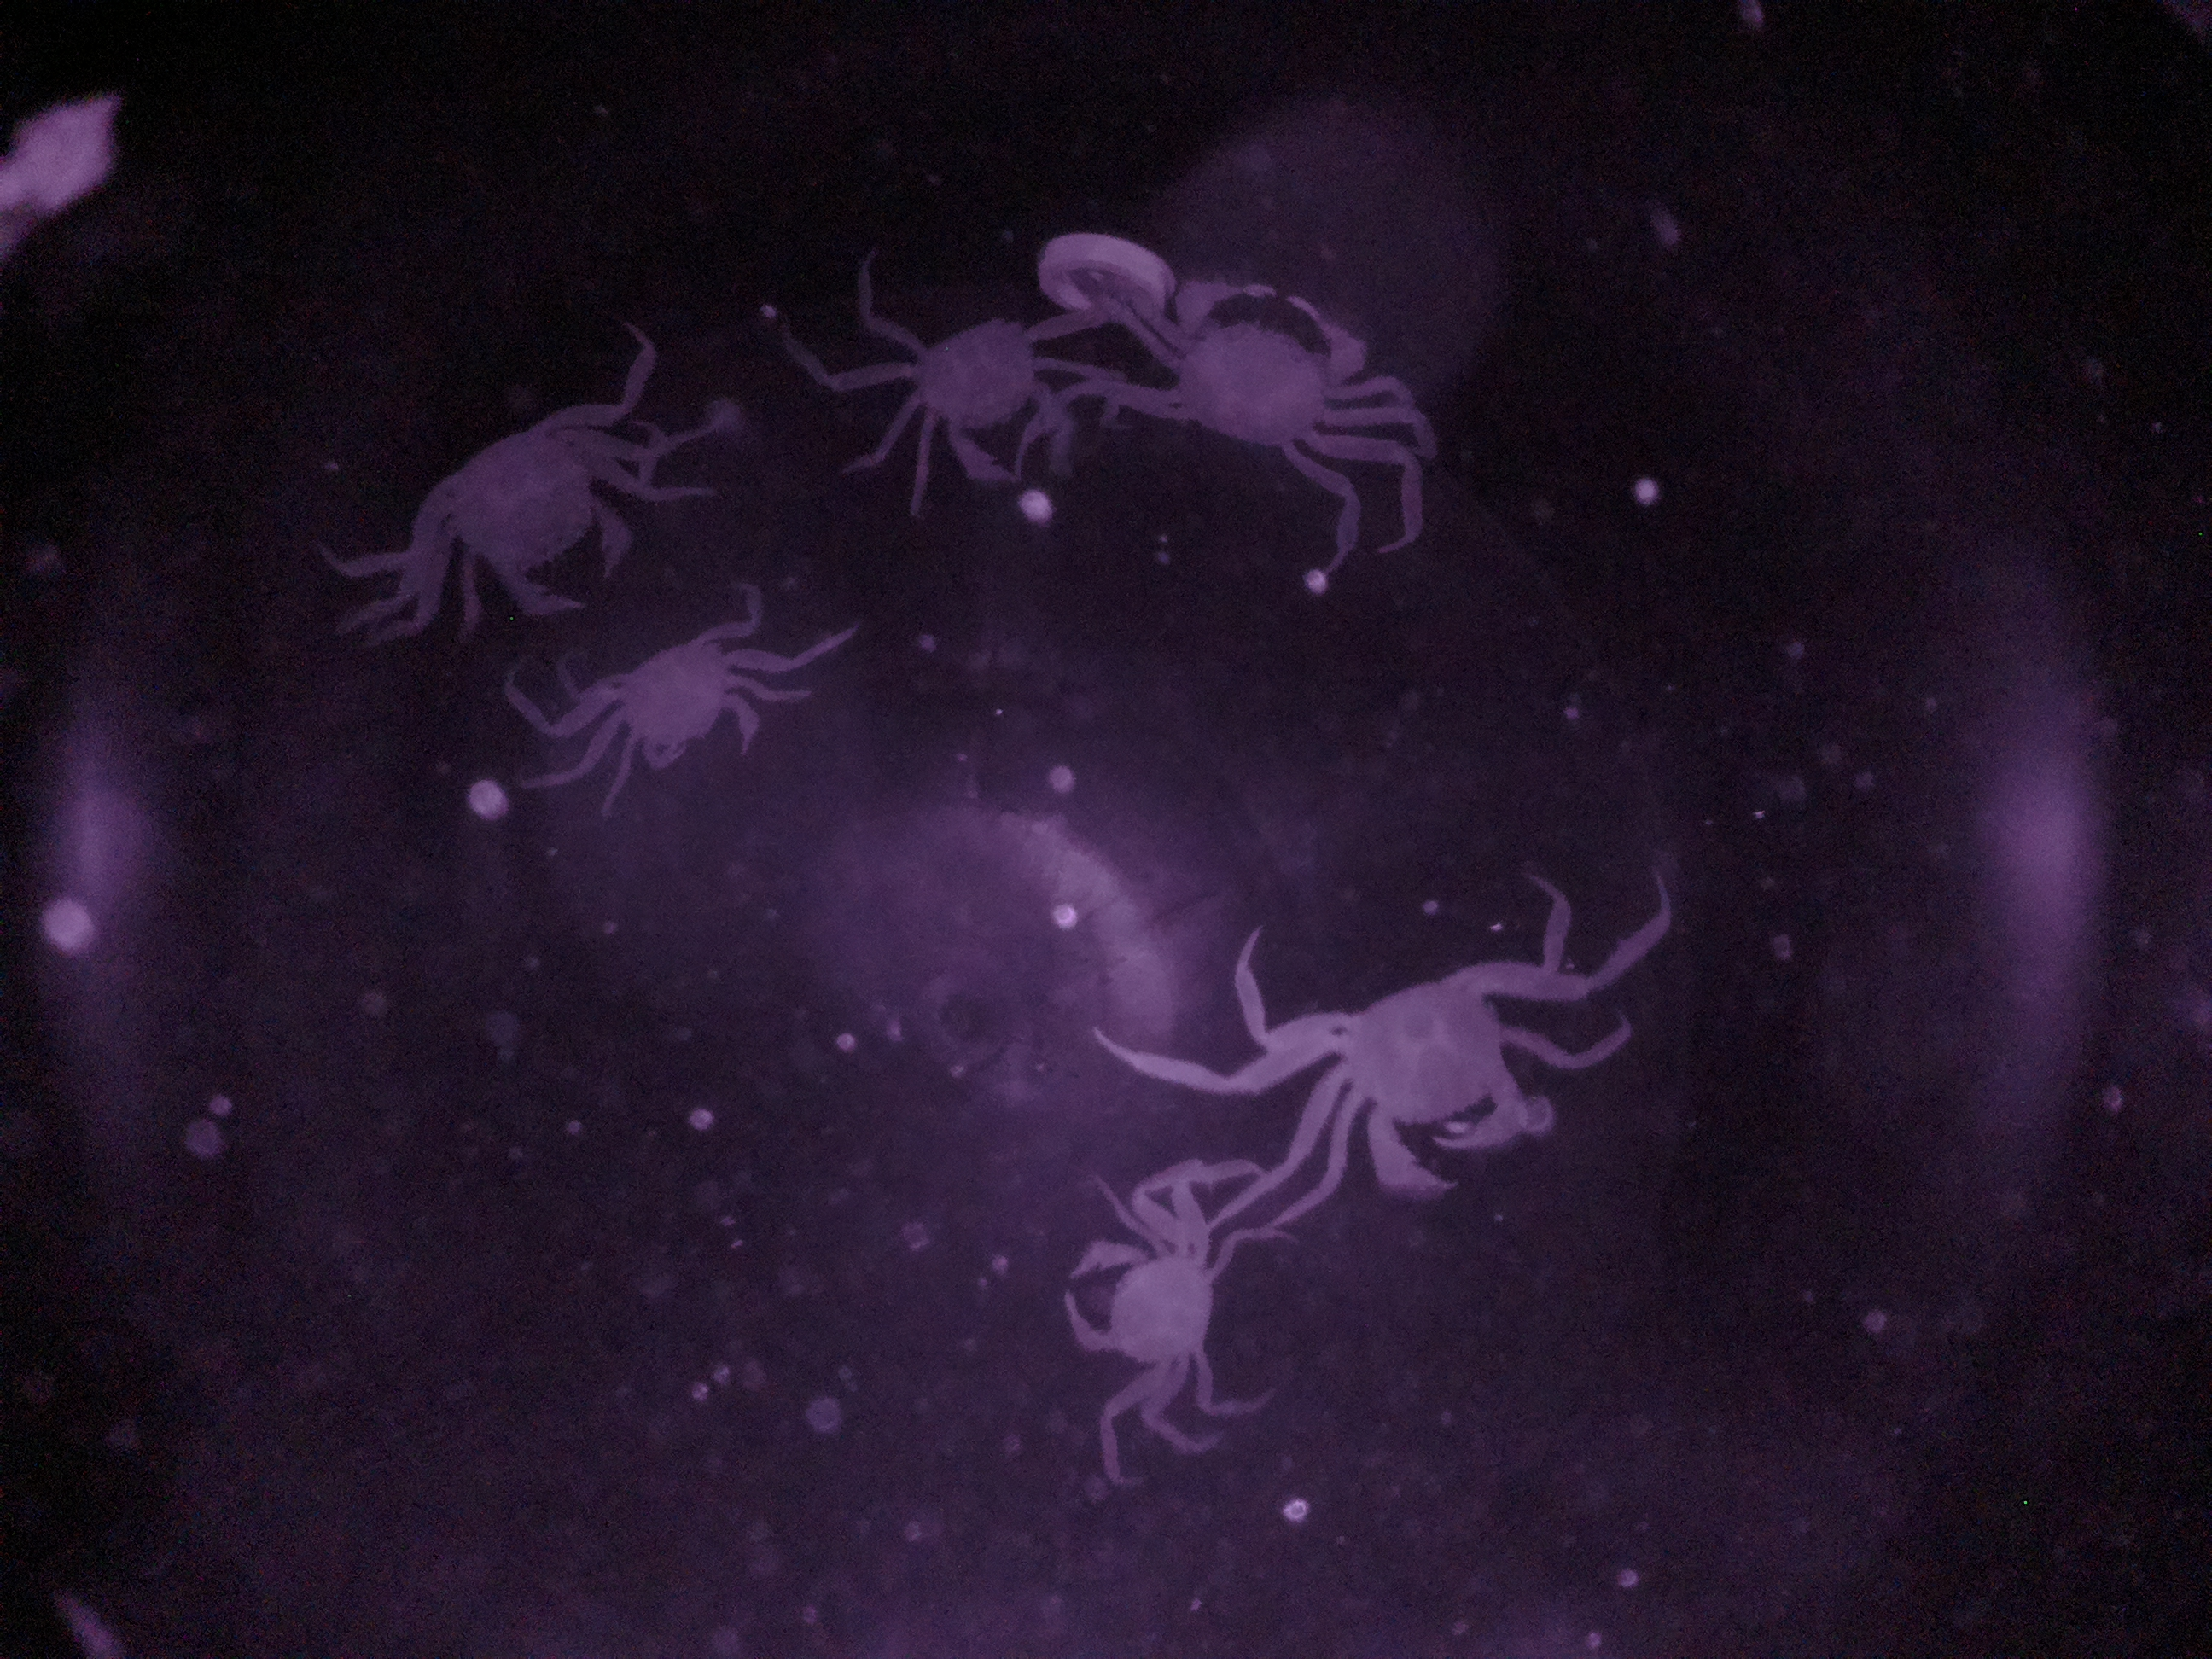Crab: (1277, 943, 1571, 1199), (1136, 268, 1385, 483), (408, 399, 644, 615), (892, 296, 1097, 495), (1047, 1192, 1228, 1406), (564, 615, 761, 788)
